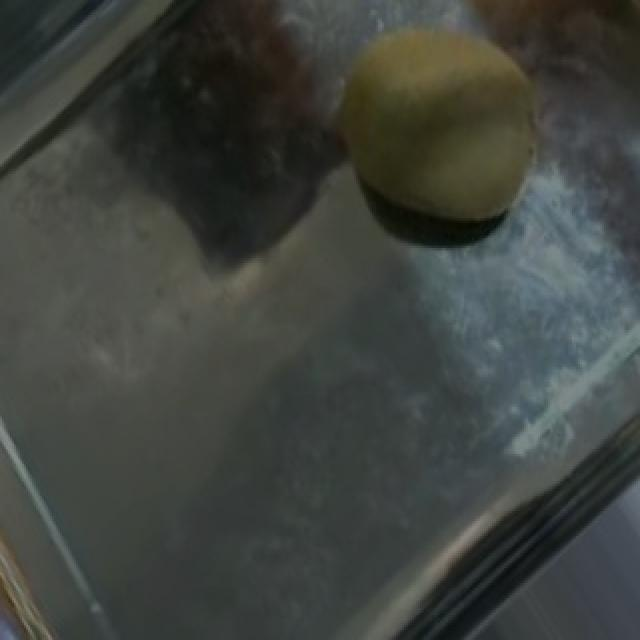Fruit: (298, 0, 578, 275)
